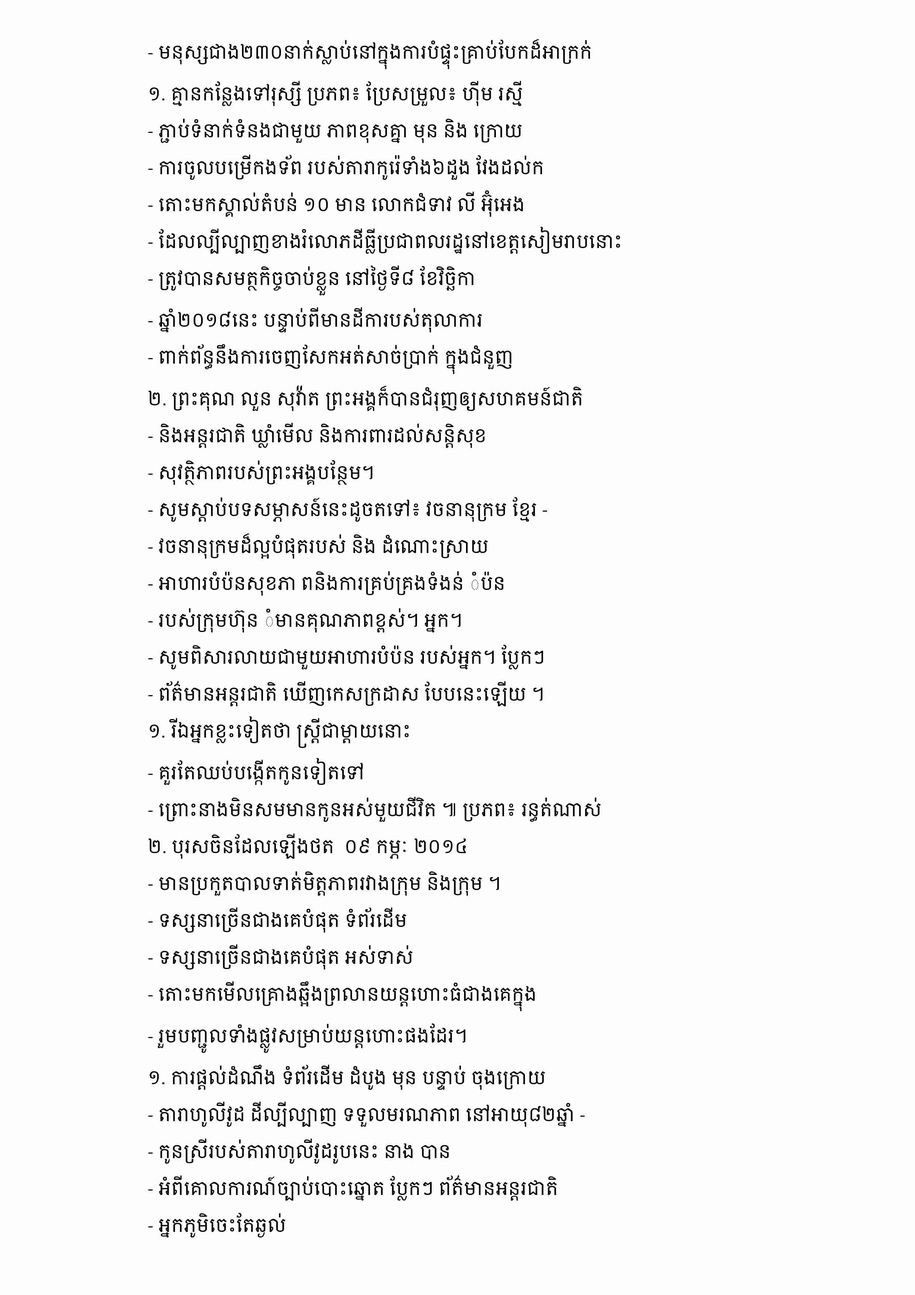text: (148, 39, 597, 69), (148, 227, 627, 254), (148, 981, 542, 1011), (148, 797, 607, 822), (148, 385, 588, 411), (148, 344, 518, 374), (148, 1102, 590, 1127), (148, 1175, 563, 1201), (148, 681, 550, 707), (148, 190, 530, 217), (148, 265, 480, 296), (148, 497, 553, 522), (148, 1065, 551, 1090), (148, 645, 550, 670), (148, 155, 549, 180), (148, 1023, 472, 1053), (148, 81, 528, 106), (148, 118, 528, 143), (148, 571, 510, 596), (148, 533, 494, 559), (148, 871, 506, 896), (148, 307, 488, 333), (148, 423, 492, 448), (148, 716, 415, 748), (148, 834, 473, 859), (148, 1138, 456, 1164), (148, 608, 467, 633), (148, 944, 418, 970), (148, 907, 412, 933), (148, 758, 369, 785), (148, 460, 380, 485), (148, 1213, 291, 1238)
